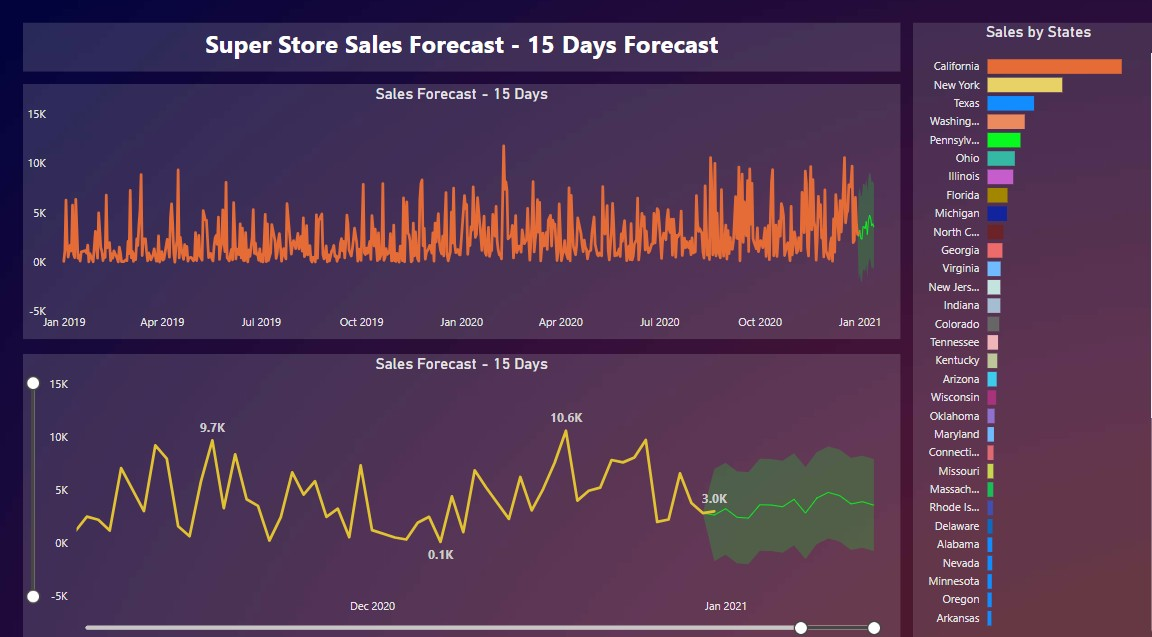

What the dashboard file says about the page in this screenshot:
{"tool":"powerbi","page":{"name":"Sales Forecast","canvas":[1280,720],"ordinal":1},"visuals":[{"type":"lineChart","title":"Sales Forecast - 15 Days","fields":{"Y":["Sum(SuperStore_Sales_Dataset (2).Sales)"],"Category":["SuperStore_Sales_Dataset (2).Order Date"]},"box":[27.4,98.8,963.3,279.9],"z":0},{"type":"lineChart","title":"Sales Forecast - 15 Days","fields":{"Y":["Sum(SuperStore_Sales_Dataset (2).Sales)"],"Category":["SuperStore_Sales_Dataset (2).Order Date"]},"box":[27.4,395.2,963.3,311.5],"z":1000},{"type":"barChart","title":"Sales by States","fields":{"Y":["Sum(SuperStore_Sales_Dataset (2).Sales)"],"Category":["SuperStore_Sales_Dataset (2).State"]},"box":[1004.5,31.6,275.8,675.1],"z":2000},{"type":"textbox","box":[27.4,31.6,963.3,53.5],"z":3000}]}

Visuals, with their boxes in screenshot pixels (x1, y1, x2, y2), scaled from the page's 1280x720 canvas onto the 1152x637 screenshot:
"Sales Forecast - 15 Days" lineChart: <box>25,87,892,335</box>
"Sales Forecast - 15 Days" lineChart: <box>25,350,892,625</box>
"Sales by States" barChart: <box>904,28,1151,625</box>
textbox: <box>25,28,892,75</box>
